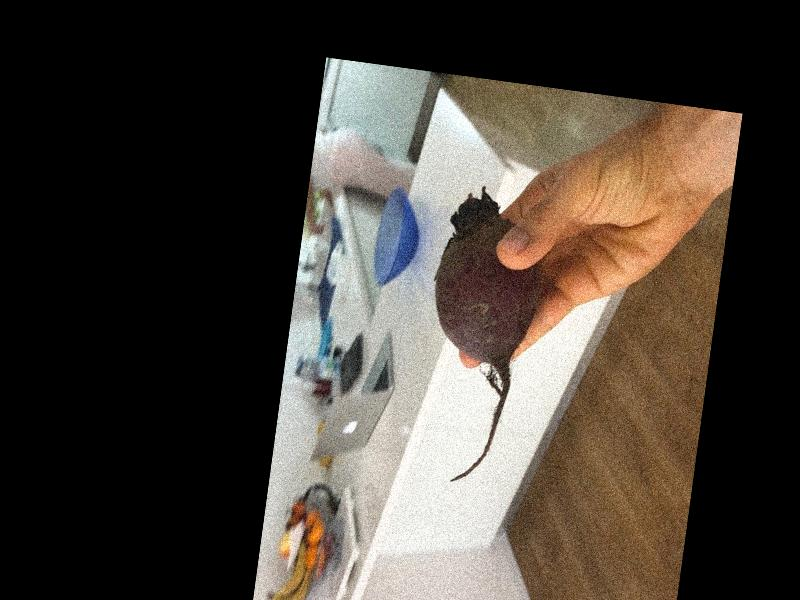Beet: (409, 184, 550, 489)
